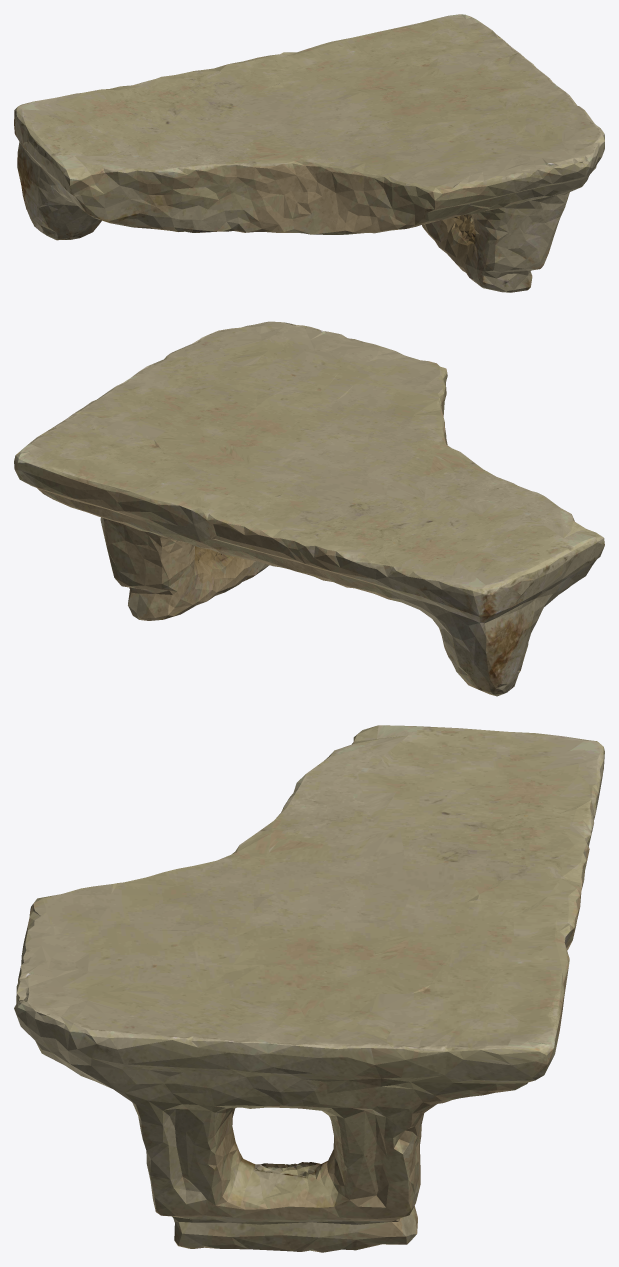
3 renders of one model, top to bottom at view 1: azimuth 30°, elevation 25°; view 2: azimuth 150°, elevation 25°; view 3: azimuth 270°, elevation 25°, orthographic. The views are drawn at different scales.
Visible parts, largest first — view 1: 1; view 2: 1; view 3: 1.
Boxes of the visible parts, x1,y1,x2,y2 form: 1: [14, 14, 604, 292]; 1: [14, 321, 604, 696]; 1: [14, 725, 604, 1252].
Bounding box in the file's own units: 3.79 × 1.36 × 2.87.
1 material, 1 textured.
